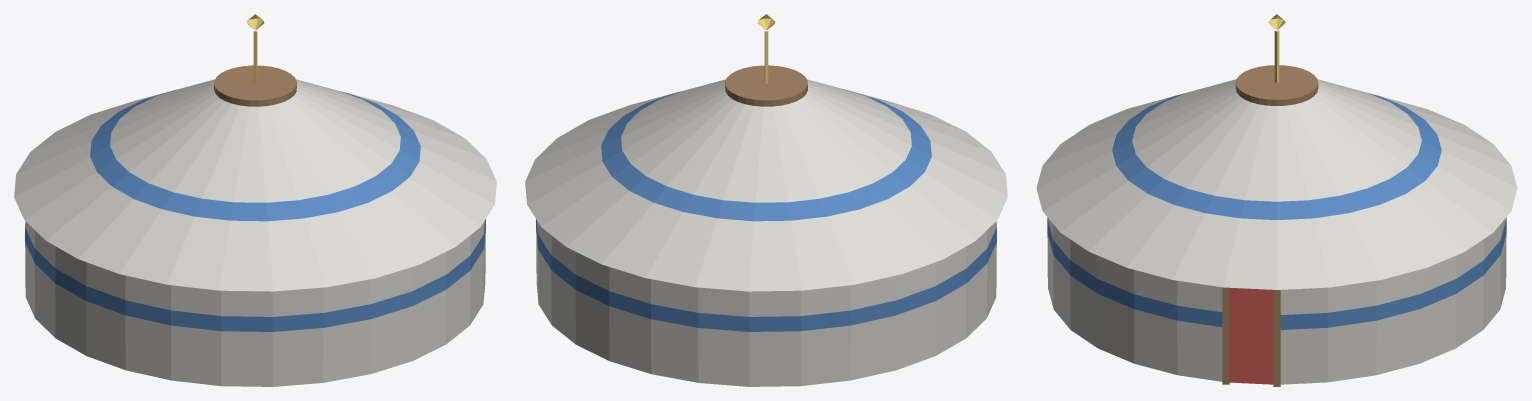
The model's file is otag_kagan.glb.
3 renders of one model, left to right at view 1: azimuth 30°, elevation 25°; view 2: azimuth 150°, elevation 25°; view 3: azimuth 270°, elevation 25°, orthographic.
Parts seen in each view (by area): view 1: otag_kagan; view 2: otag_kagan; view 3: otag_kagan.
Part boxes in pixels (left/top/right/bottom): otag_kagan: left=14, top=14, right=496, bottom=386; otag_kagan: left=525, top=14, right=1007, bottom=386; otag_kagan: left=1036, top=14, right=1517, bottom=386.
Bounding box in the file's own units: 10.5 × 6.6 × 10.5.
